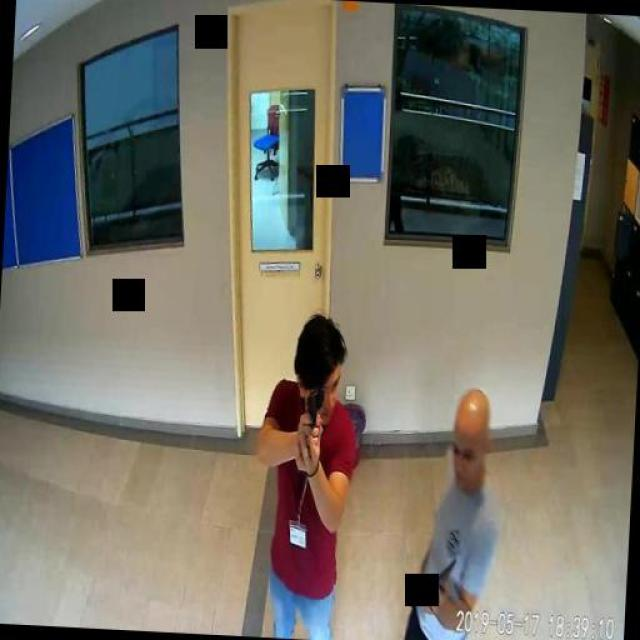gun: (302, 385, 322, 454)
